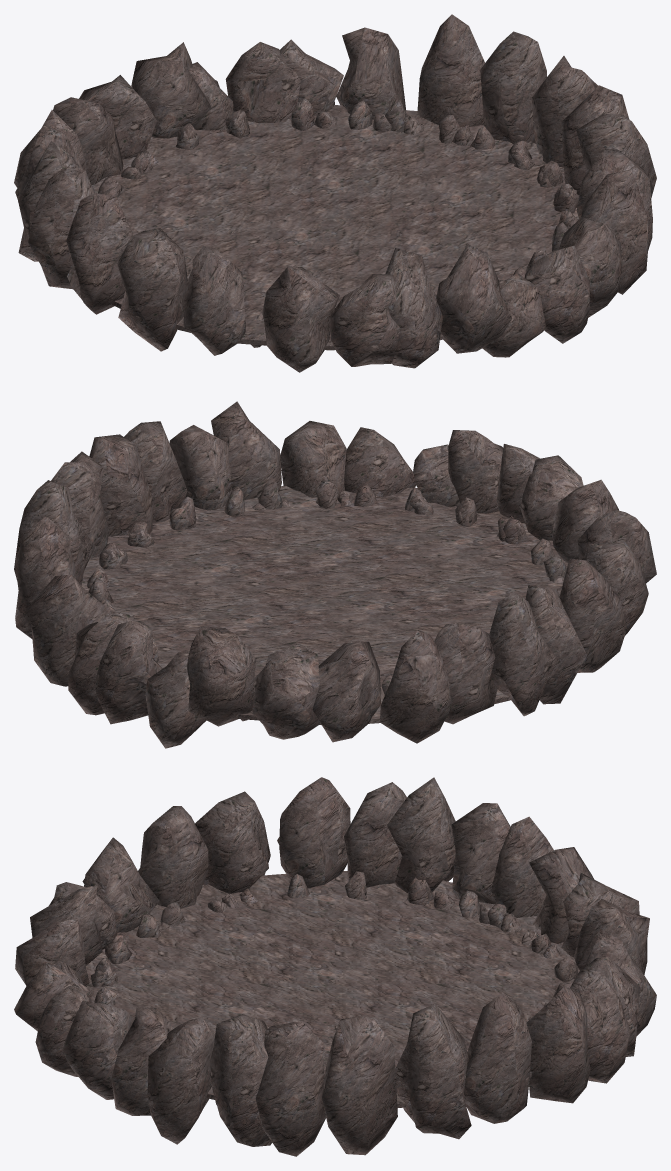
The model's file is dragon_background.FBX.
3 renders of one model, top to bottom at view 1: azimuth 30°, elevation 25°; view 2: azimuth 150°, elevation 25°; view 3: azimuth 270°, elevation 25°, orthographic.
Parts seen in each view (by area): view 1: Cylinder001; view 2: Cylinder001; view 3: Cylinder001.
Boxes of the visible parts, bbox=[...] form: Cylinder001: bbox=[14, 14, 656, 372]; Cylinder001: bbox=[14, 401, 656, 748]; Cylinder001: bbox=[14, 777, 656, 1156].
Bounding box in the file's own units: 194 × 50.7 × 194.
1 material, 1 textured.
